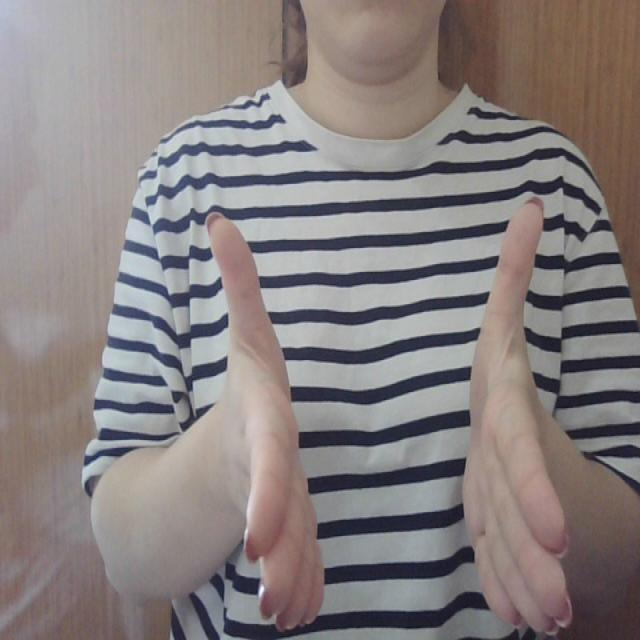Nasil: (201, 192, 577, 640)
